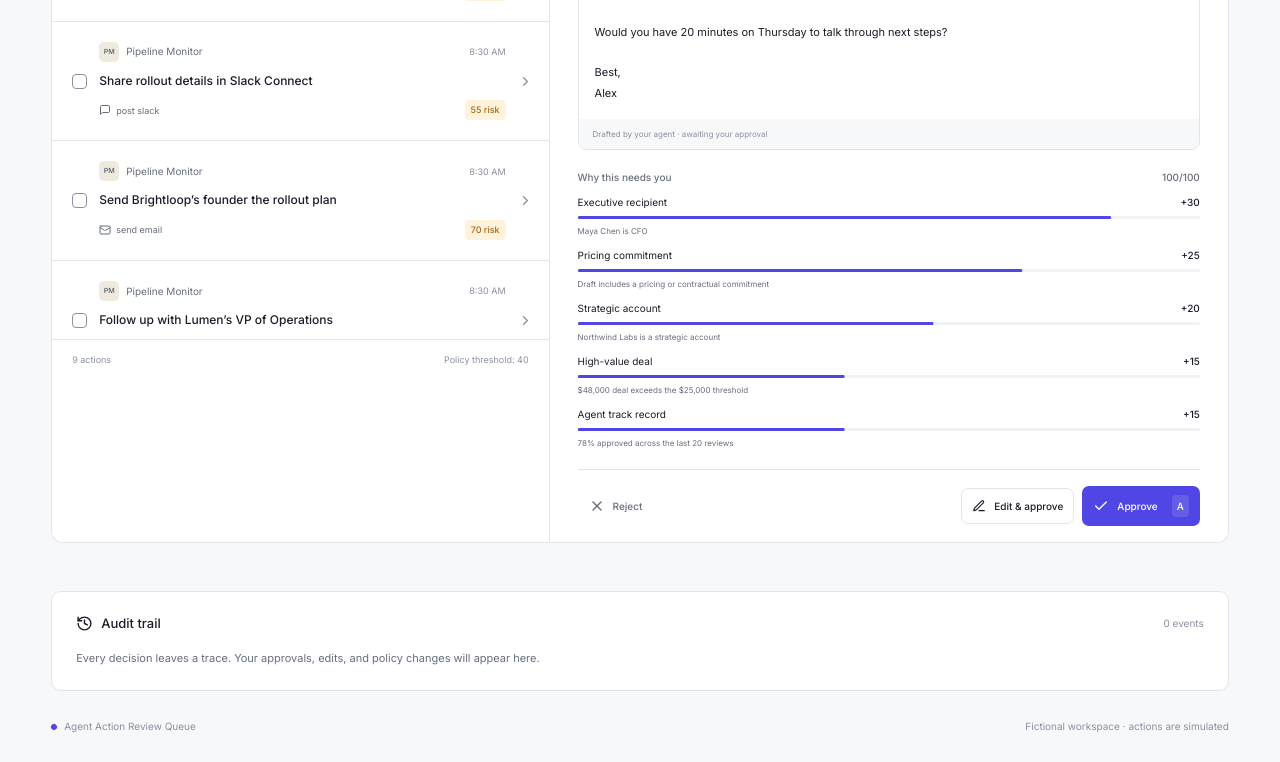
Test: reject is disabled until reason is supplied
The width and height of the screenshot is (1280, 762).
(page scrolled)
Click the button with aria-label "Reject action".
click(616, 506)  # box [578,488,653,524]
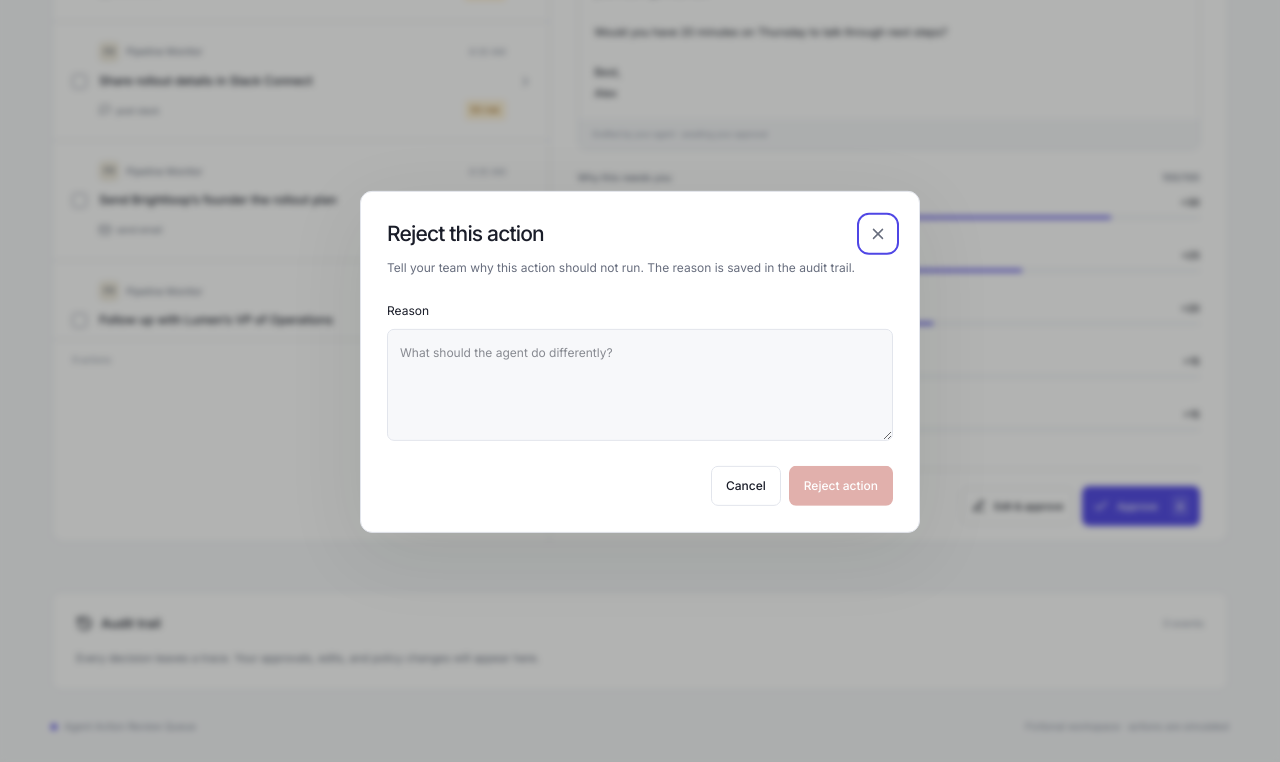
Now the button "Reject action" is disabled, box [789,466,893,506]
Type "Needs a personal reply" into the text box labelled "Reason".
click(640, 385); type("Needs a personal reply")  # box [387,329,893,441]
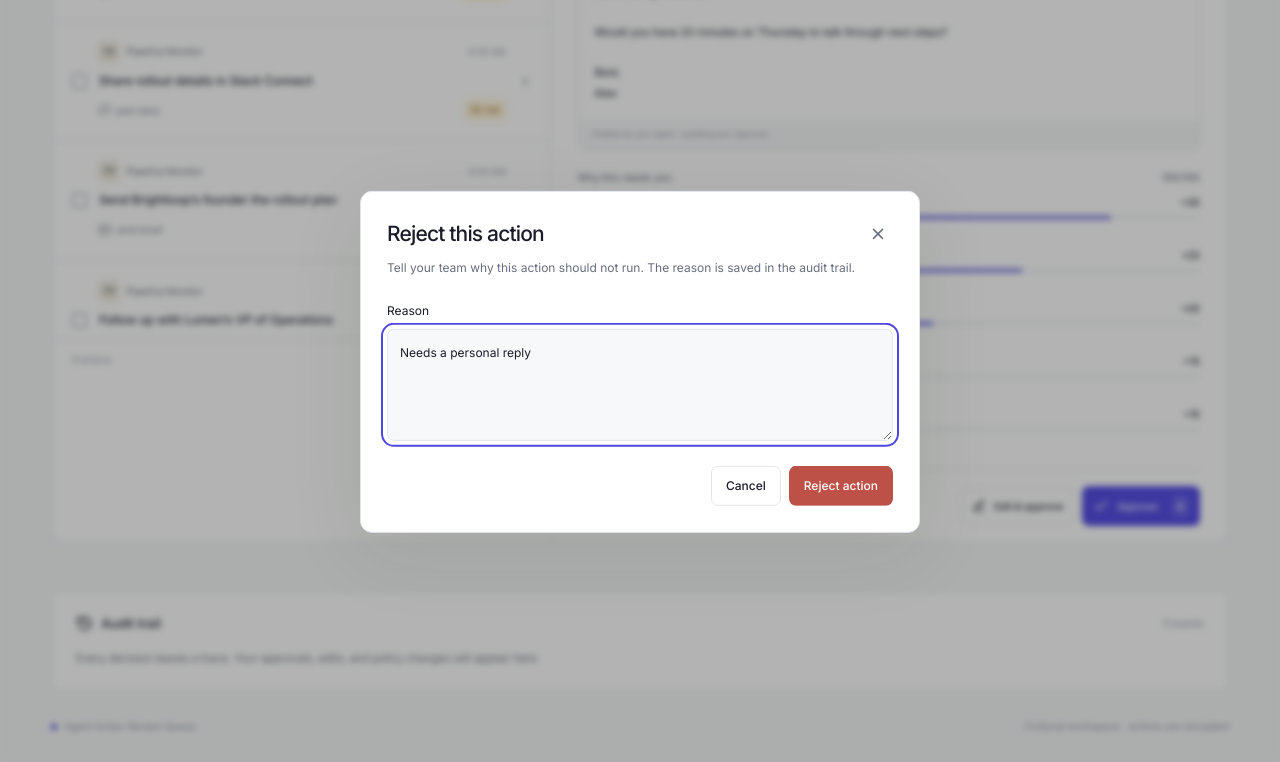
Now the button "Reject action" is enabled, box [789,466,893,506]
